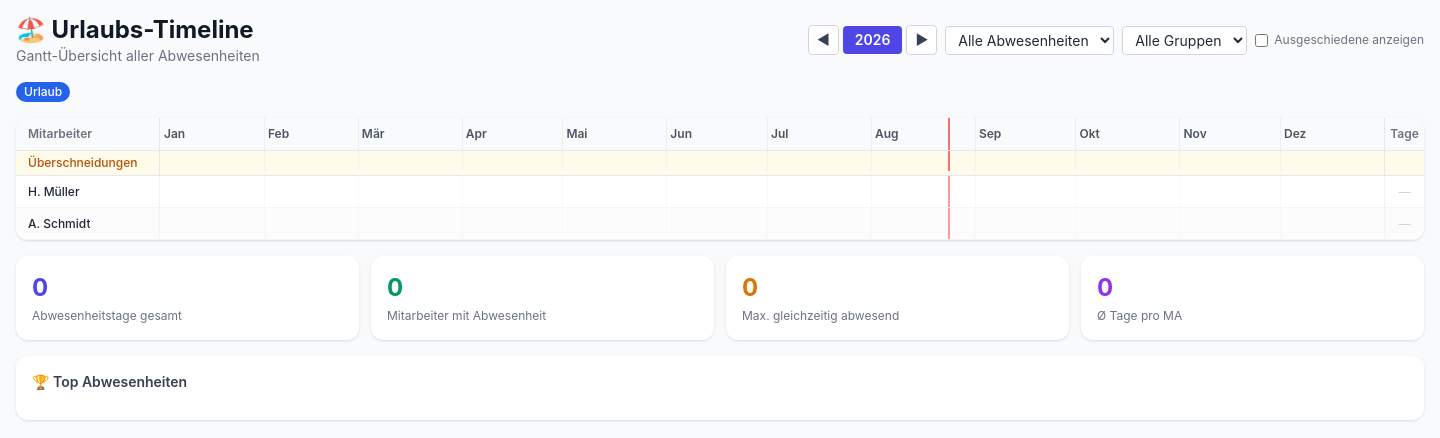
Scenario: UrlaubsTimeline — Gruppenfilter › zeigt bei Gruppenwahl nur die Mitglieder aus /groups/{id}/members
Expected: the text "H. Müller" is shown, left=28, top=184, right=80, bottom=200
Expected: the text "A. Schmidt" is shown, left=28, top=216, right=90, bottom=232
Select "Team A" in the 2nd dropdown showing "Alle Gruppen" at (1185, 40), box left=1122, top=26, right=1247, bottom=54
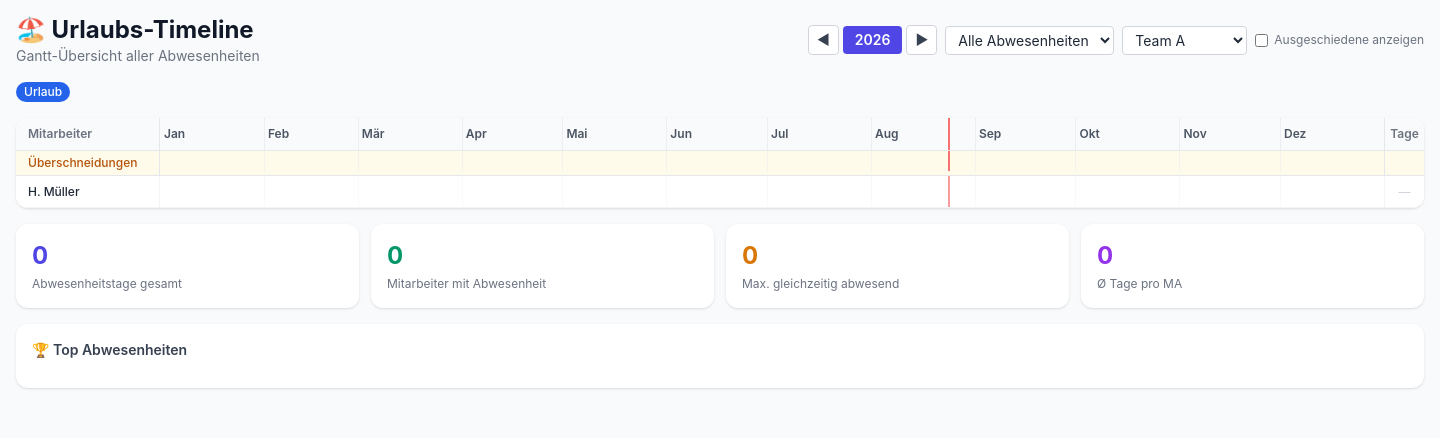
Expected: the text "H. Müller" is shown, left=28, top=184, right=80, bottom=200
Expected: the text "A. Schmidt" is gone
